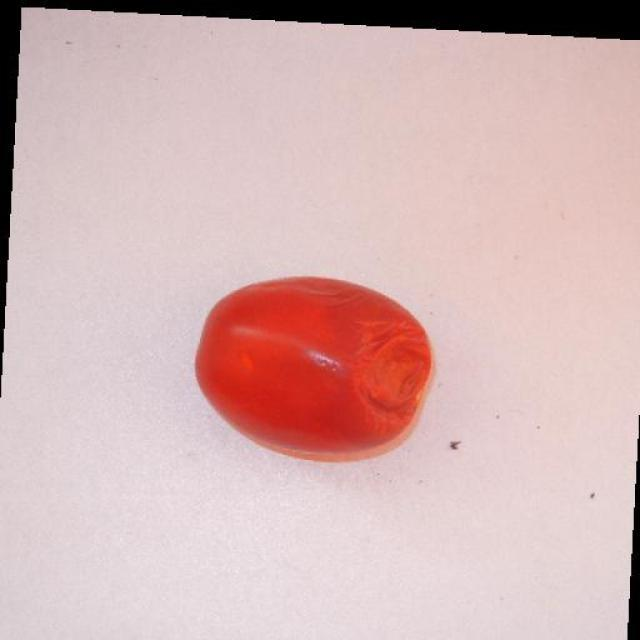Rotten Tomato: (178, 260, 438, 473)
